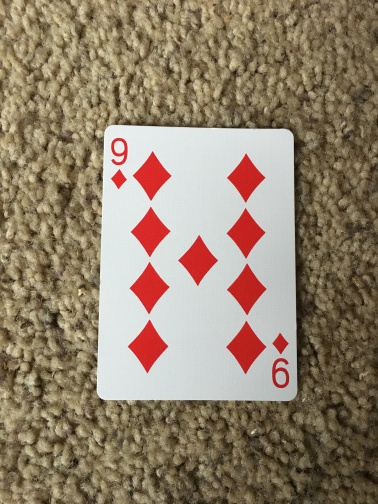nine: (97, 123, 299, 401)
